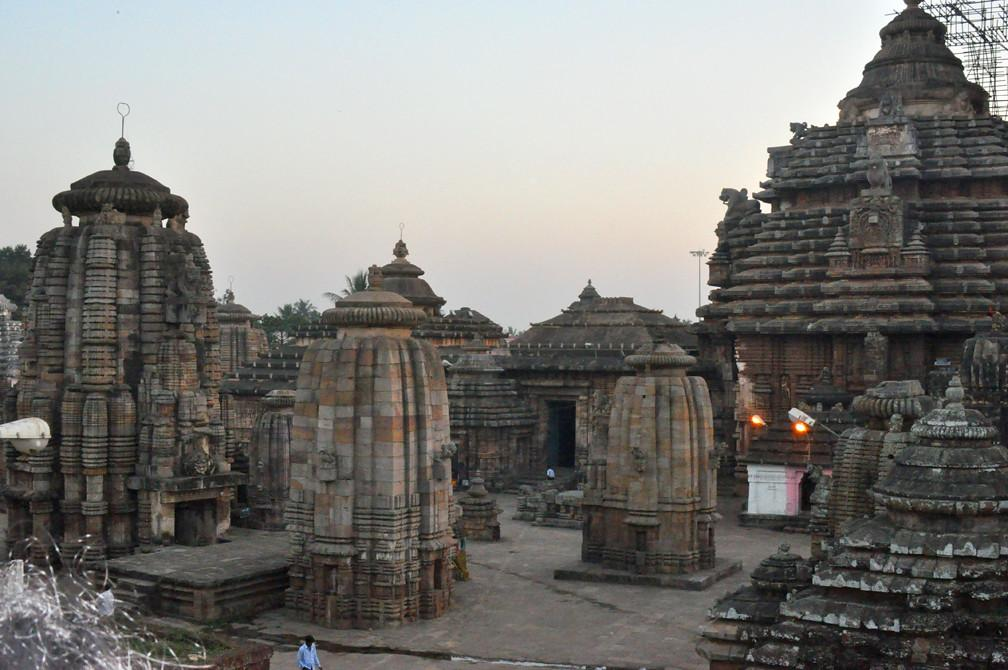temple: (2, 1, 1007, 662), (693, 1, 1008, 504), (1, 101, 251, 570), (696, 370, 1008, 669), (577, 338, 722, 577)
